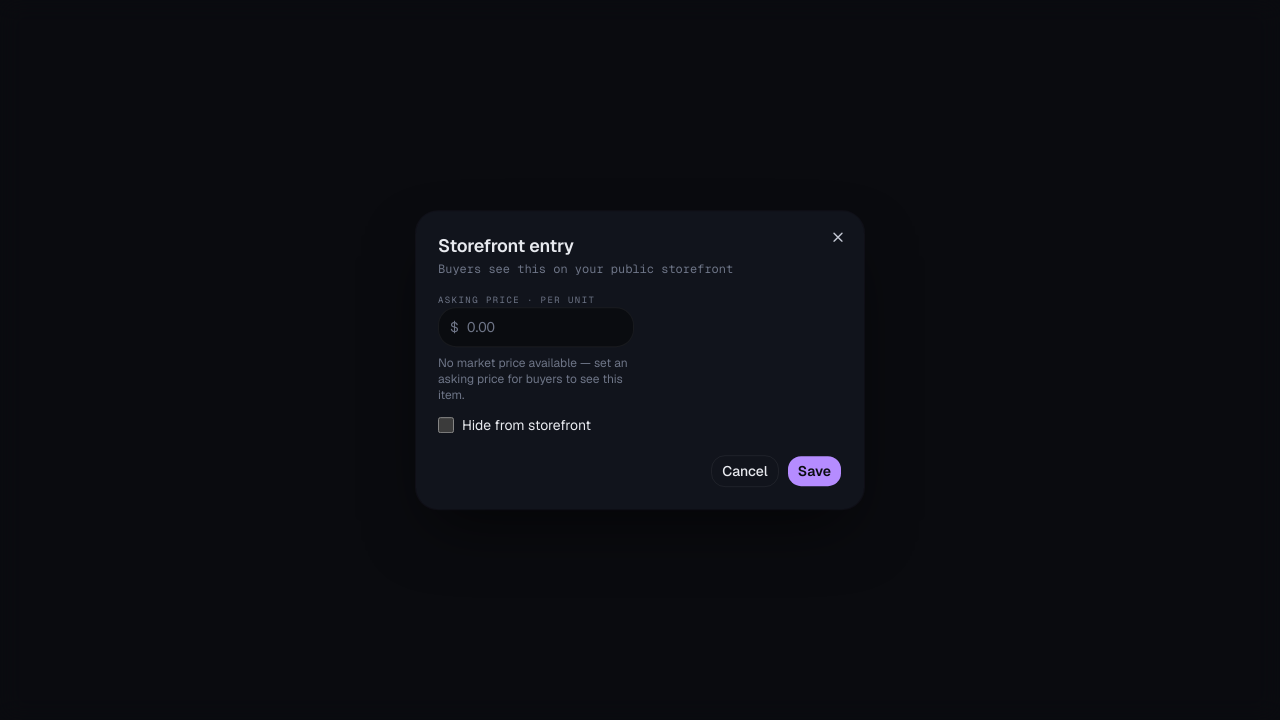
it: AskingPriceDialog › rejects asking price above the cap
Type "1000001.00" into the field labelled "Asking price · per unit" at (536, 327), box [438,307,634,347]
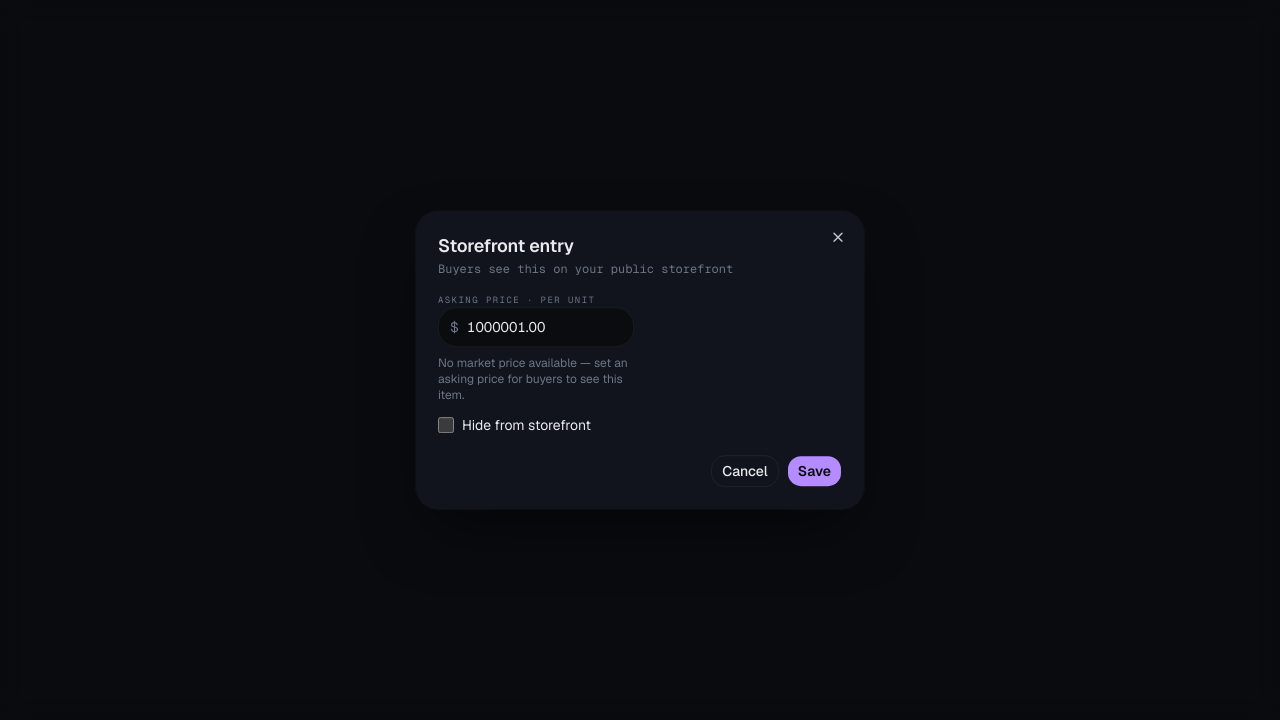
Click the button "Save" at (814, 471), box [787,455,842,487]
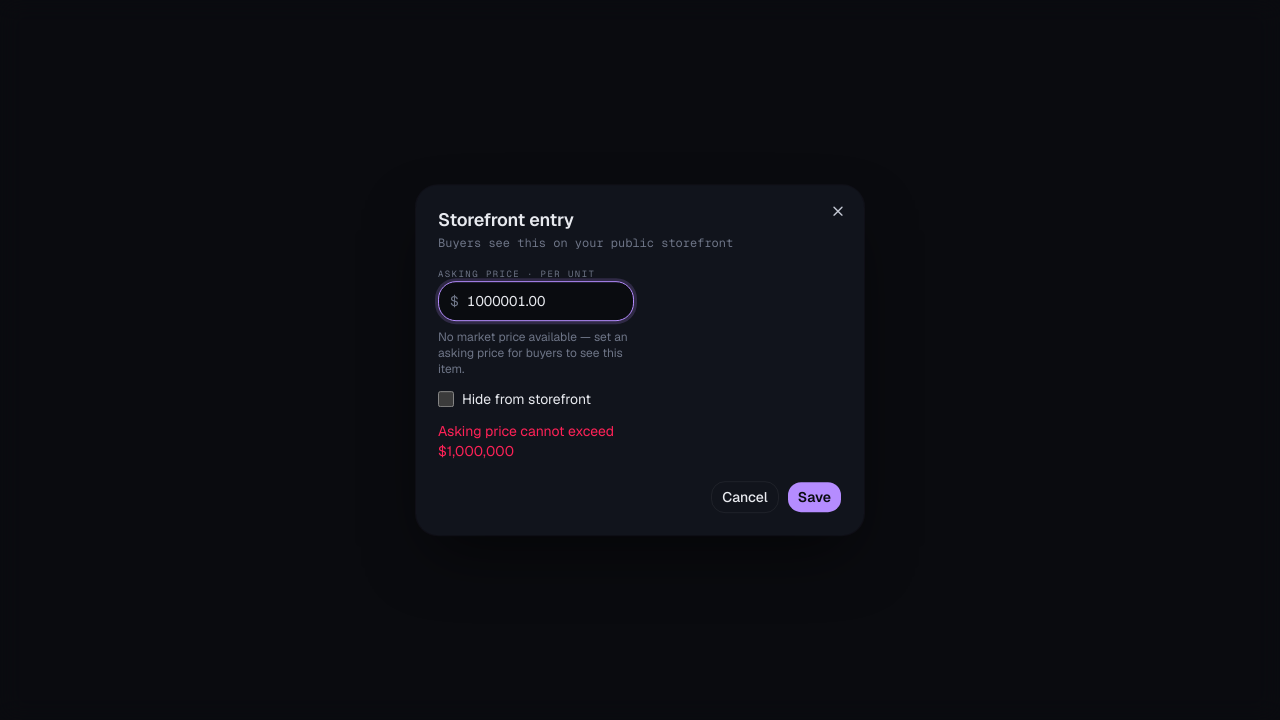
Check: the text "Asking price cannot exceed $1,000,000" is shown, box [438,421,634,461]
